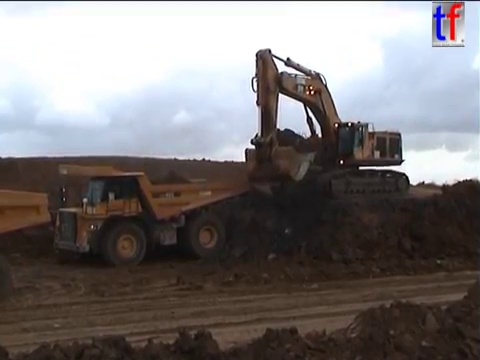excavator: (242, 45, 412, 205)
truck: (52, 162, 247, 268), (1, 181, 53, 302)
